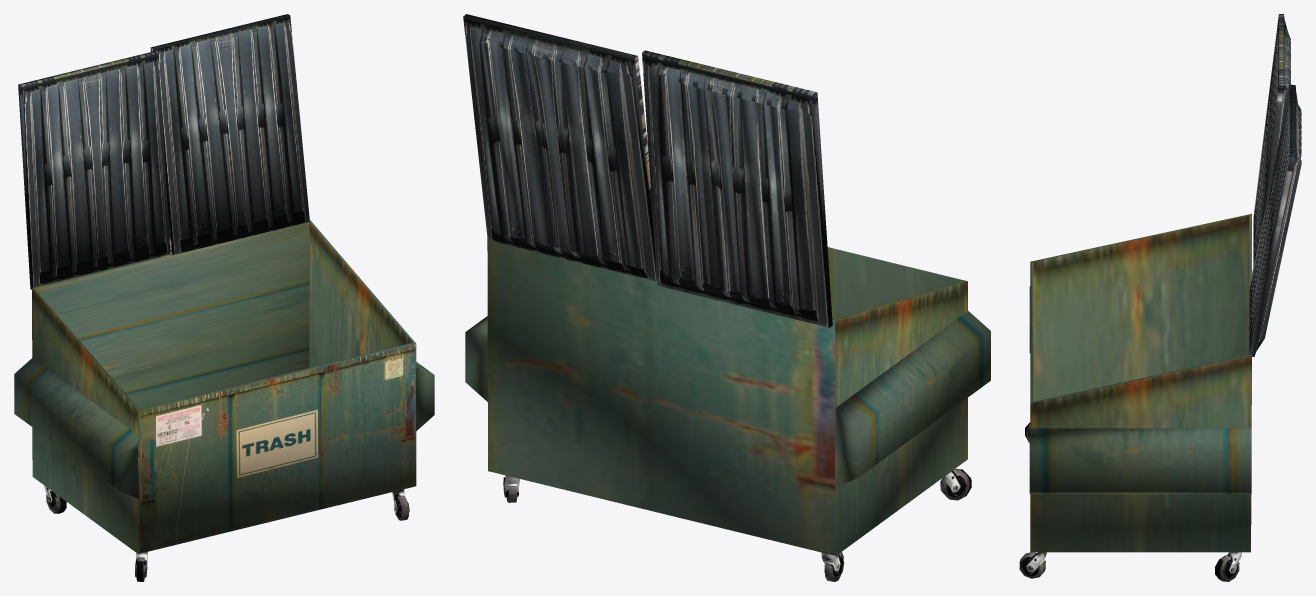
File: dumpster.fbx
3 renders of one model, left to right at view 1: azimuth 30°, elevation 25°; view 2: azimuth 150°, elevation 25°; view 3: azimuth 270°, elevation 25°, orthographic. The views are drawn at different scales.
Visible parts, largest first — view 1: box0, doora0, doorb0, NoName_9, wheels0, bolsters0; view 2: box0, doora0, doorb0, NoName_9, wheels0, bolsters0; view 3: box0, bolsters0, doorb0, doora0, wheels0.
Boxes of the visible parts, box(x1,y1,x2,y2) form: box0: box(32, 220, 416, 553); doora0: box(18, 51, 170, 289); doorb0: box(150, 14, 309, 255); NoName_9: box(14, 358, 138, 498); wheels0: box(44, 485, 409, 581); bolsters0: box(416, 362, 434, 431); box0: box(487, 238, 967, 555); doora0: box(642, 50, 832, 327); doorb0: box(463, 14, 656, 281); NoName_9: box(835, 311, 990, 486); wheels0: box(503, 468, 971, 581); bolsters0: box(465, 316, 488, 402); box0: box(1030, 214, 1251, 552); bolsters0: box(1029, 428, 1251, 494); doorb0: box(1249, 84, 1301, 356); doora0: box(1253, 14, 1290, 265); wheels0: box(1019, 422, 1241, 581).
Size of the model in its own units: 3.56 by 4.45 by 2.65.
